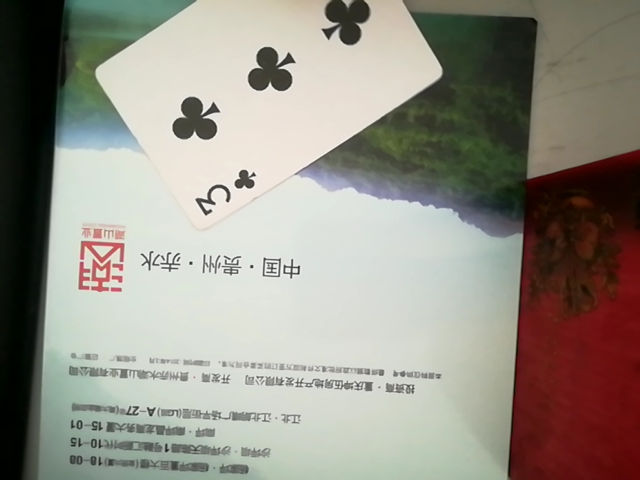mh 3: (83, 0, 446, 217)
